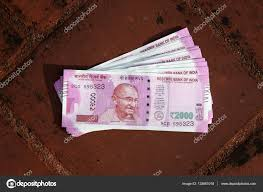twoThousand: (75, 82, 201, 121)
